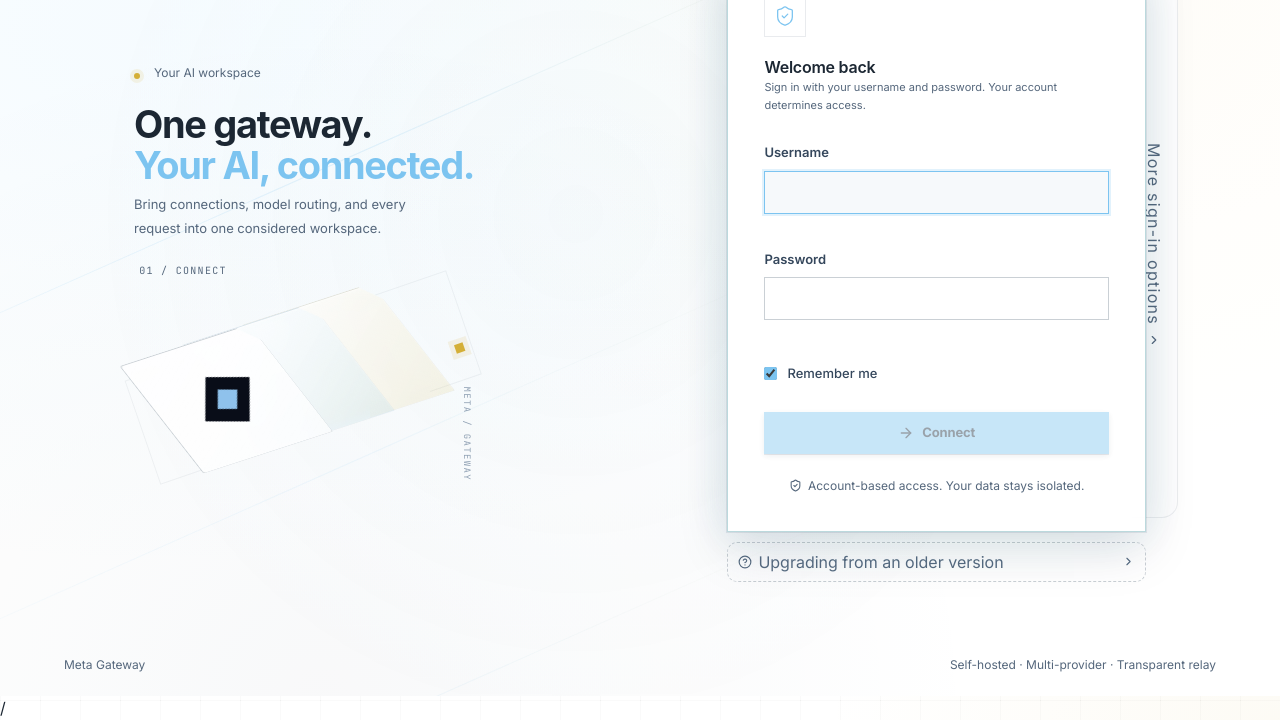
Test: channel-first shell › offers upgrade sign-in guidance on the card, without sending credentials
(page scrolled)
Click the button "Upgrading from an older version" at coordinates (937, 562), box [727, 542, 1146, 582]
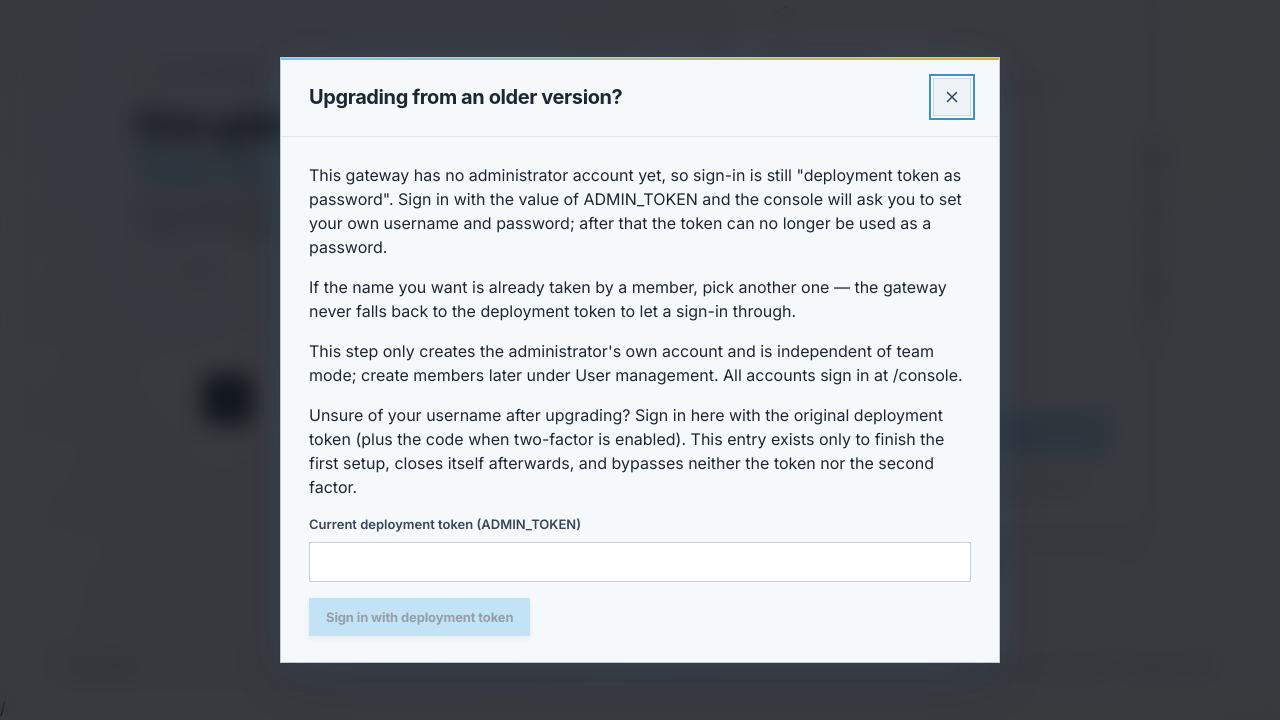
Check: the dialog shows "ADMIN_TOKEN", box [309, 165, 962, 257]
